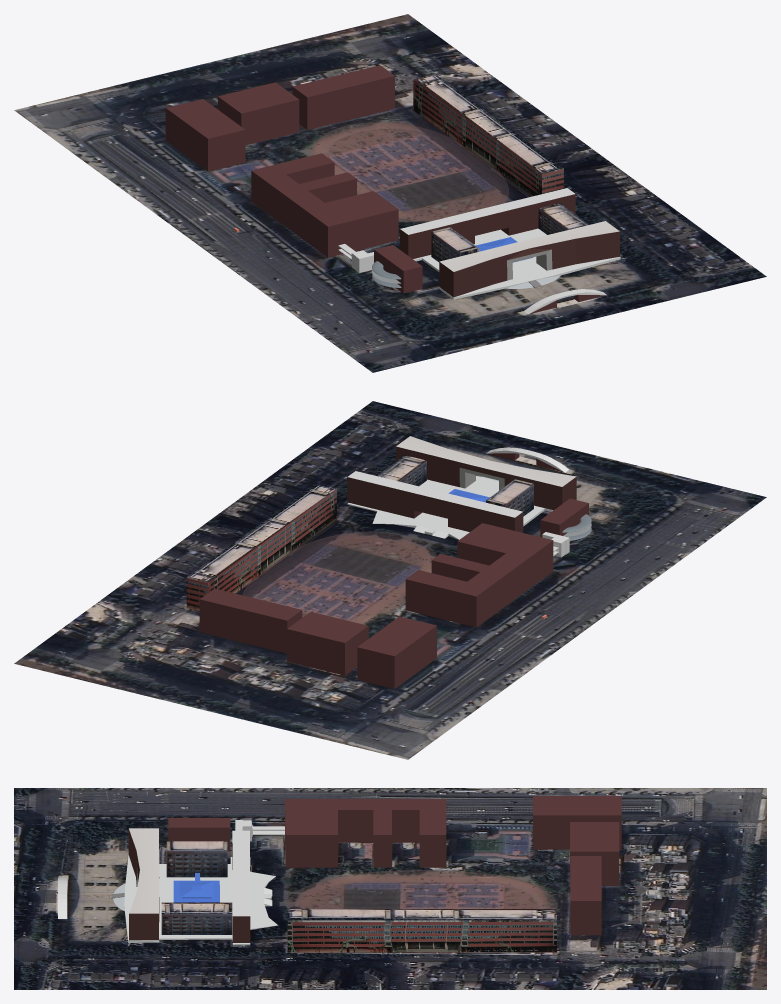
File: LiGe5.glb
3 renders of one model, top to bottom at view 1: azimuth 30°, elevation 25°; view 2: azimuth 150°, elevation 25°; view 3: azimuth 270°, elevation 25°, orthographic. The views are drawn at different scales.
Parts seen in each view (by area): view 1: Screenshot 2024-10-19 164652, sportsField, HighSchool, MiddleSchool.SouthWing, PrimarySchool, Mysterbuilding1, MiddleSchool.NorthWing, Mysterbuilding2, Dininghall, PrimarySchool.003, MiddleschoolGround, OfficesWestWing (+5 smaller); view 2: Screenshot 2024-10-19 164652, sportsField, HighSchool, MiddleSchool.NorthWing, MiddleSchool.SouthWing, PrimarySchool, Mysterbuilding1, Mysterbuilding2, Dininghall, MiddleschoolGround, PrimarySchool.002, PrimarySchool.003 (+5 smaller); view 3: Screenshot 2024-10-19 164652, HighSchool, sportsField, PrimarySchool, MiddleschoolGround, Mysterbuilding2, MiddleSchool.SouthWing, PrimarySchool.003, Mysterbuilding1, MiddleSchool.EastWing, Dininghall, Middleschool.WestWing (+7 smaller).
Boxes of the visible parts, box(x1,y1,x2,y2) form: Screenshot 2024-10-19 164652: box(14, 14, 766, 372); sportsField: box(312, 122, 508, 222); HighSchool: box(413, 74, 563, 196); MiddleSchool.SouthWing: box(439, 221, 619, 297); PrimarySchool: box(251, 165, 349, 257); Mysterbuilding1: box(292, 65, 394, 129); MiddleSchool.NorthWing: box(400, 188, 575, 258); Mysterbuilding2: box(165, 99, 245, 171); Dininghall: box(218, 82, 299, 145); PrimarySchool.003: box(325, 191, 398, 250); MiddleschoolGround: box(413, 228, 620, 299); OfficesWestWing: box(374, 245, 422, 293); Screenshot 2024-10-19 164652: box(14, 401, 766, 759); sportsField: box(243, 531, 436, 624); HighSchool: box(186, 483, 336, 611); MiddleSchool.NorthWing: box(347, 471, 523, 532); MiddleSchool.SouthWing: box(396, 436, 576, 510); PrimarySchool: box(455, 535, 553, 627); Mysterbuilding1: box(199, 588, 302, 653); Mysterbuilding2: box(357, 616, 436, 688); Dininghall: box(287, 611, 368, 675); MiddleschoolGround: box(347, 476, 553, 539); PrimarySchool.002: box(405, 570, 466, 621); PrimarySchool.003: box(457, 523, 531, 565); Screenshot 2024-10-19 164652: box(14, 788, 766, 989); HighSchool: box(287, 909, 556, 952); sportsField: box(287, 870, 557, 908); PrimarySchool: box(285, 799, 446, 842); MiddleschoolGround: box(124, 855, 278, 945); Mysterbuilding2: box(533, 796, 621, 849); MiddleSchool.SouthWing: box(128, 828, 159, 940); PrimarySchool.003: box(285, 810, 337, 867); Mysterbuilding1: box(570, 856, 601, 935); MiddleSchool.EastWing: box(161, 902, 232, 934); Dininghall: box(570, 822, 619, 885); Middleschool.WestWing: box(166, 841, 227, 877).
Bounding box in the file's own units: 357 × 33.37 × 564.
Materials: 26 (8 with a texture image).
